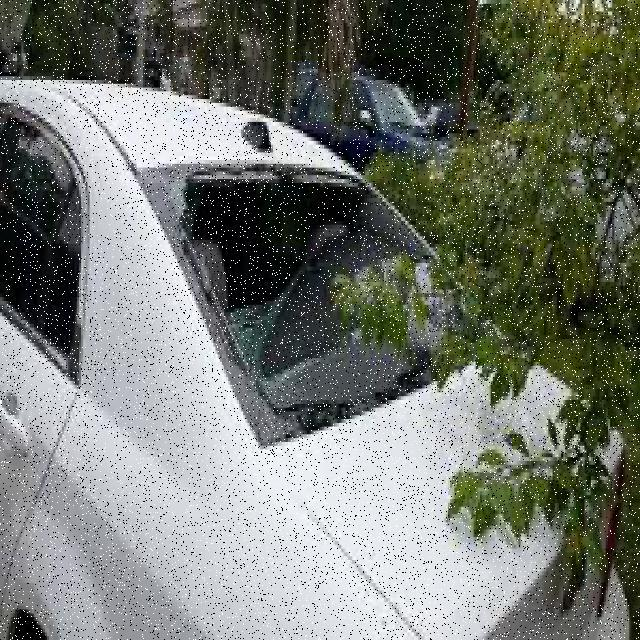Rear-windscreen-Damage: (177, 145, 478, 469)
